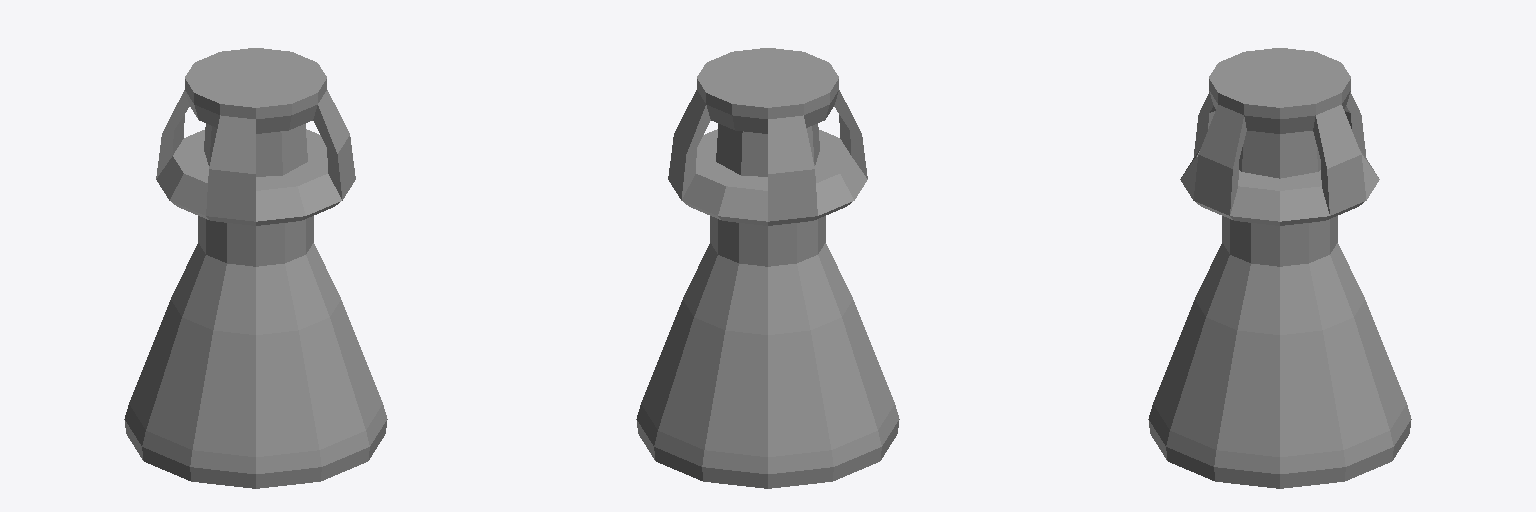
Rendered from engine(large).obj.
The picture shows the model from 3 angles: view 1: azimuth 30°, elevation 25°; view 2: azimuth 150°, elevation 25°; view 3: azimuth 270°, elevation 25°; orthographic projection.
Visible parts, largest first — view 1: Cylinder.005; view 2: Cylinder.005; view 3: Cylinder.005.
Boxes of the visible parts, x1=… form: Cylinder.005: x1=124, y1=48, x2=387, y2=488; Cylinder.005: x1=636, y1=48, x2=899, y2=488; Cylinder.005: x1=1148, y1=48, x2=1411, y2=488.
Bounding box in the file's own units: 2.06 × 3.09 × 2.06.